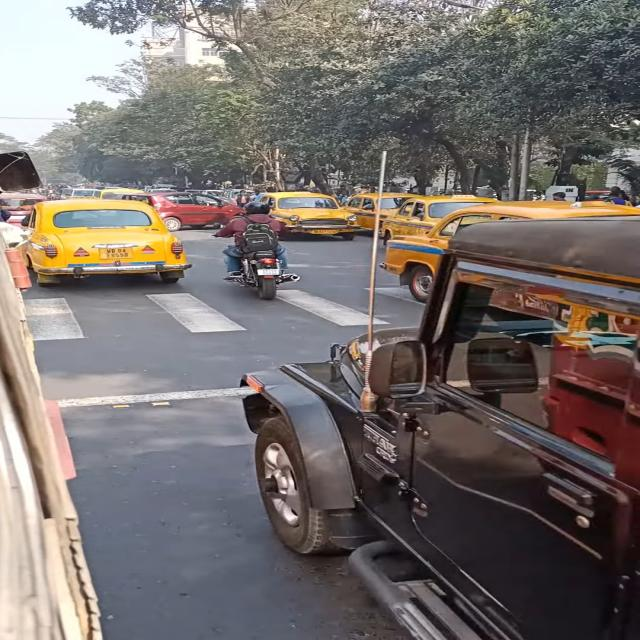Bike: (214, 204, 300, 302)
